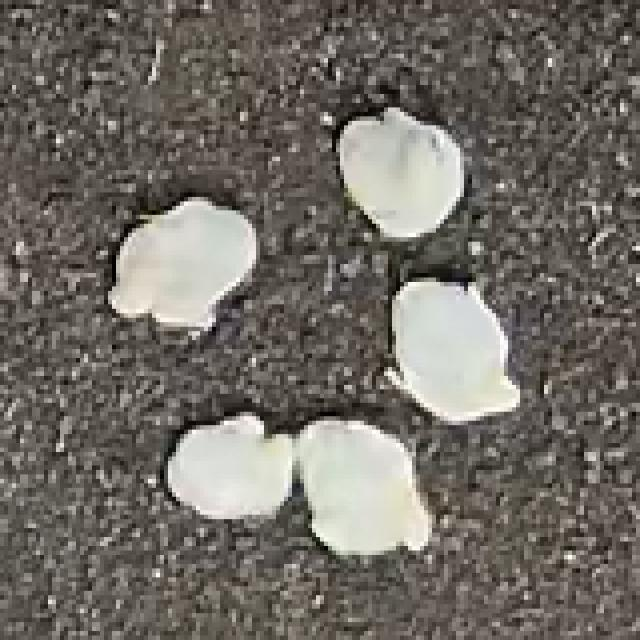broiler: (384, 277, 516, 421), (108, 197, 252, 327), (296, 421, 428, 550), (336, 107, 460, 237), (164, 412, 292, 515)
